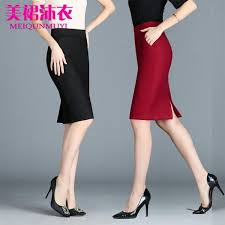F_tailored skirt: (42, 25, 96, 130)
